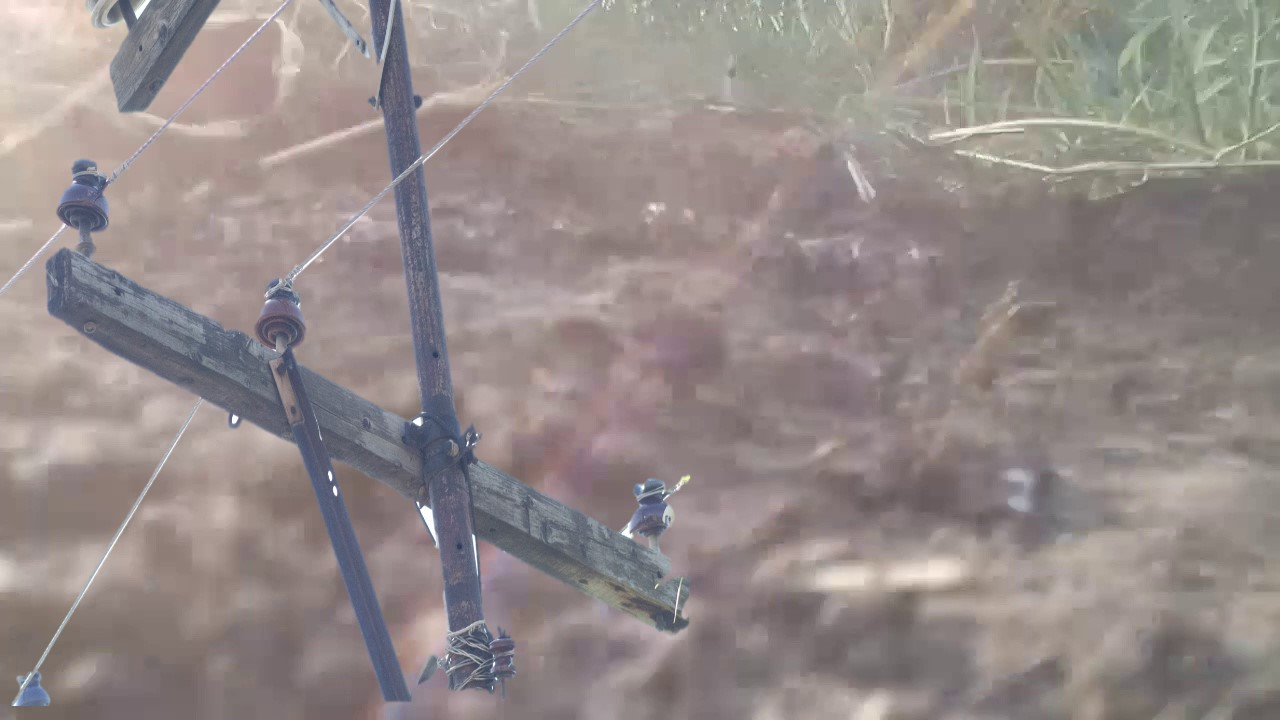defect_pin: (624, 471, 679, 542)
insulator_pin: (53, 155, 114, 239), (250, 273, 312, 349)
